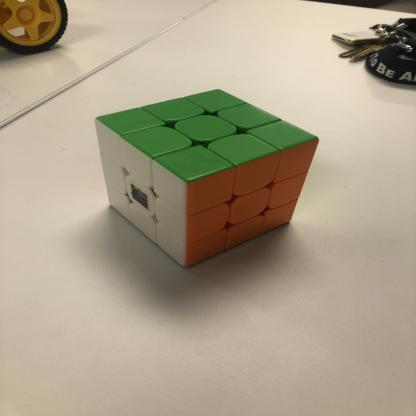SolvedCube: (67, 78, 335, 294)
